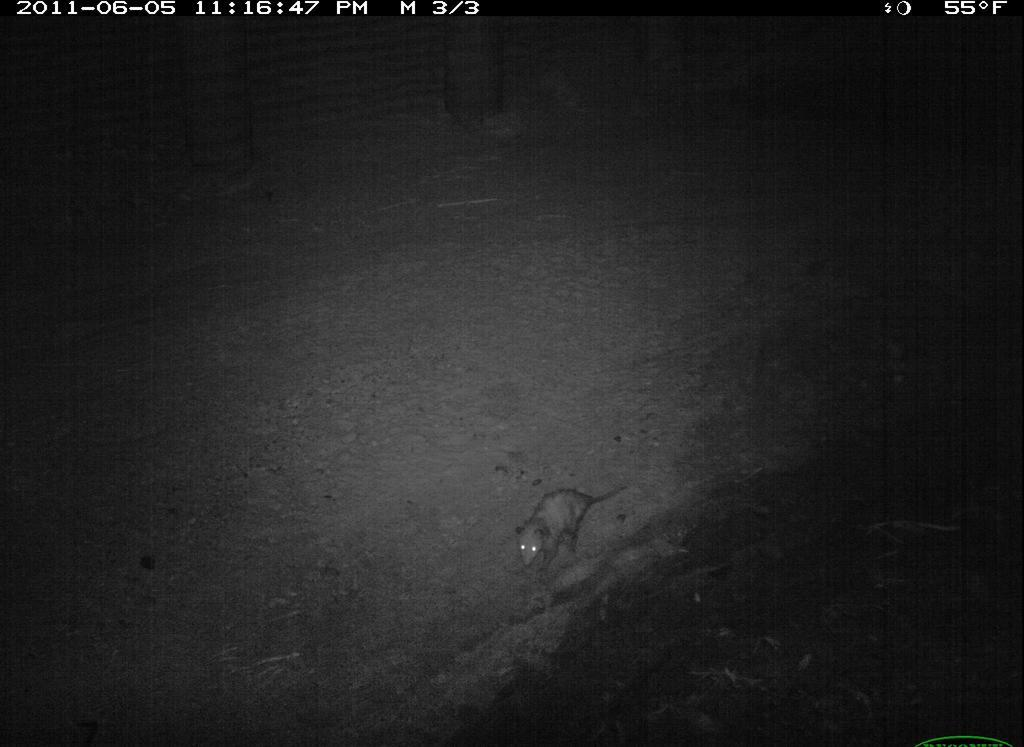opossum: (509, 481, 641, 577)
